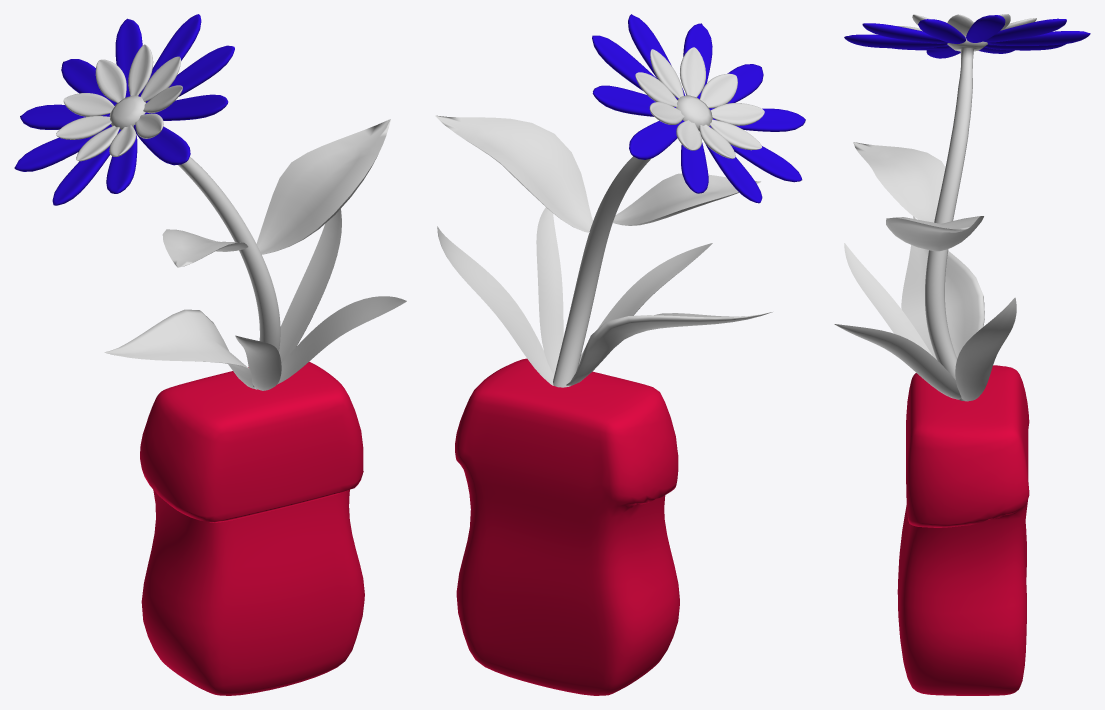
File: backpack.fbx
The picture shows the model from 3 angles, left to right: view 1: azimuth 30°, elevation 25°; view 2: azimuth 150°, elevation 25°; view 3: azimuth 270°, elevation 25°; orthographic projection. The views are drawn at different scales.
Visible parts, largest first — view 1: backpack; view 2: backpack; view 3: backpack.
Part boxes in pixels (x1=…): backpack: x1=14, y1=14, x2=406, y2=695; backpack: x1=435, y1=14, x2=805, y2=695; backpack: x1=834, y1=14, x2=1090, y2=695.
Bounding box in the file's own units: 76.55 × 136 × 49.62.
